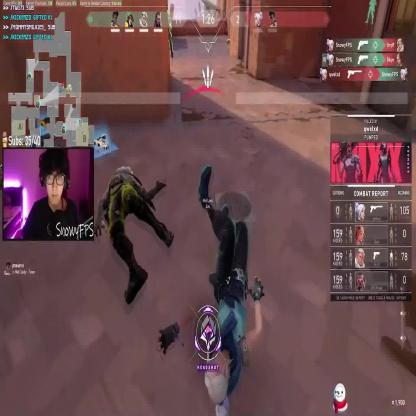enemy: (164, 9, 174, 58)
enemy_head: (167, 10, 170, 20)
